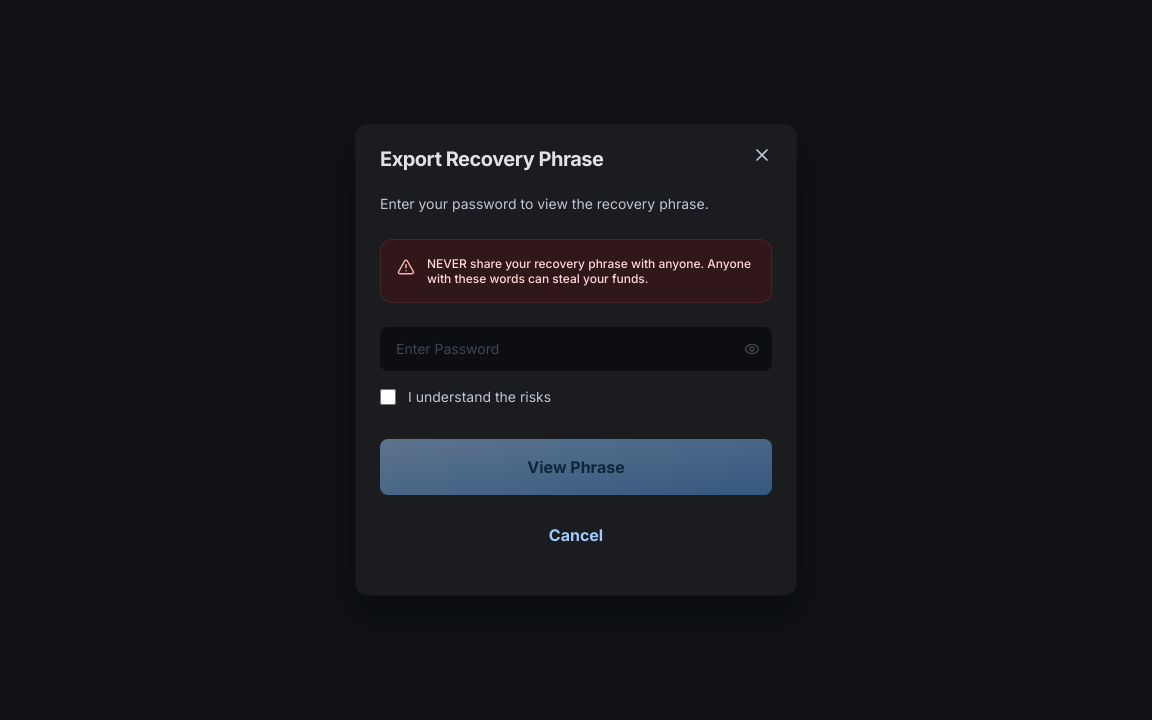
Test: ExportScreen — step 1: verify password › View Phrase button enabled after checking "I understand"
This screenshot has width=1152, height=720.
What coordinates should you click on to do the following:
click the checkbox
I would click on:
 (388, 397)
Its box is [380,389,396,405].
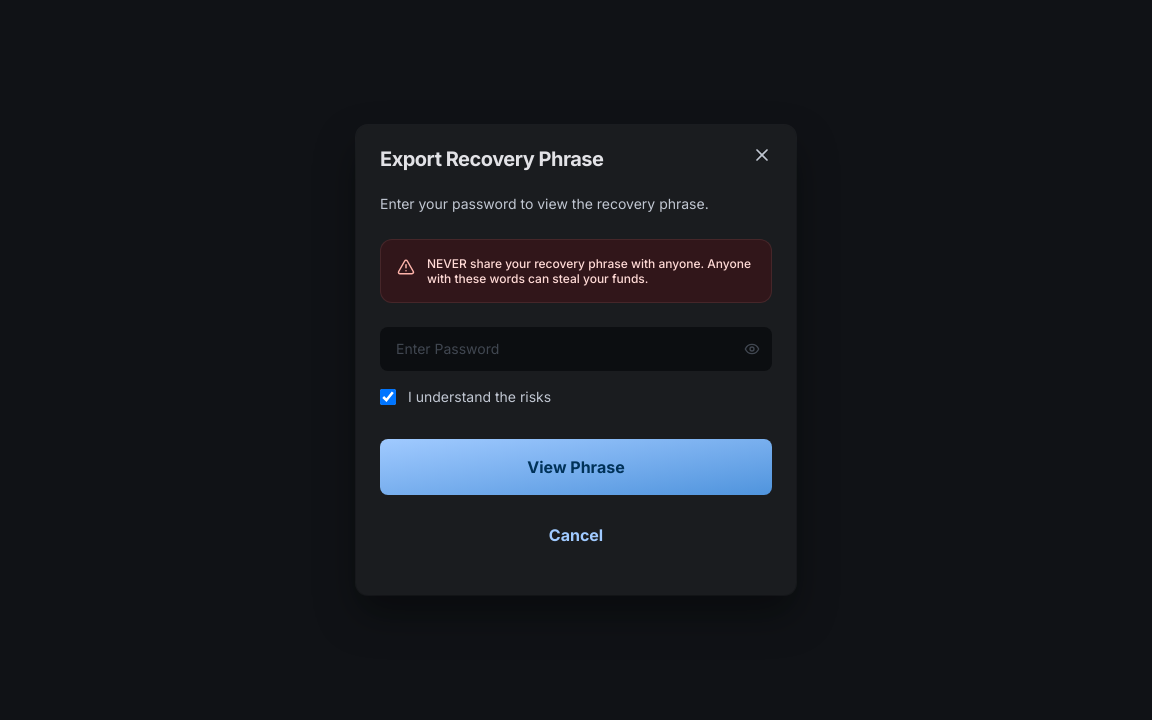
Now the button "View Phrase" is enabled, box [380,439,772,495]
